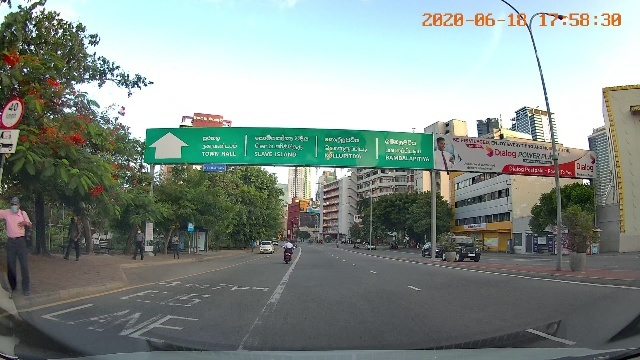BL: (33, 288, 216, 347)
